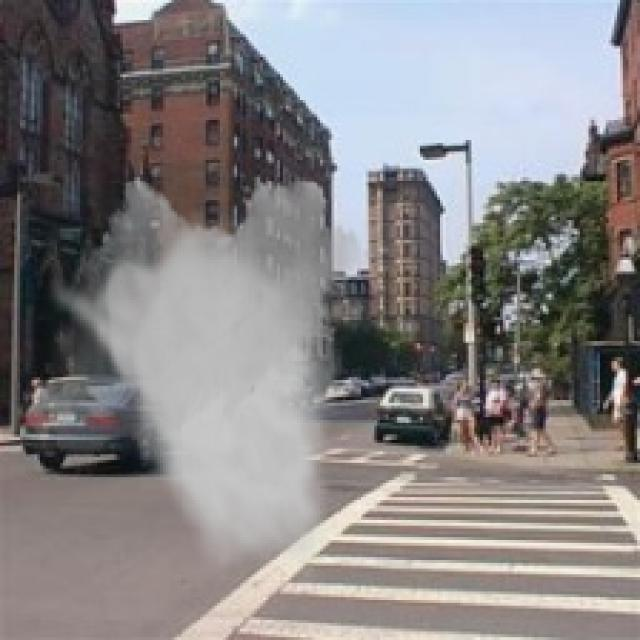Smoke: (14, 165, 372, 586)
